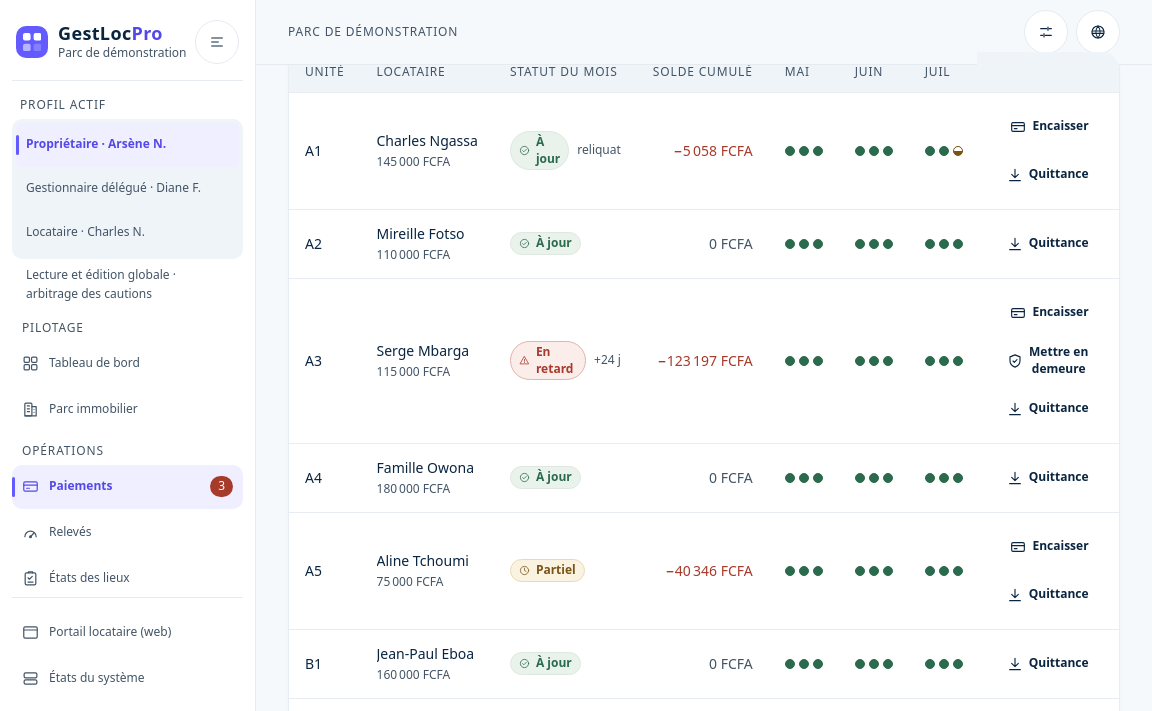
la mise en demeure en démonstration › ne prétend pas avoir enregistré quoi que ce soit
(page scrolled)
Expected: the row that starts with "Serge Mbarga" is shown, [289,278,1120,443]
Click the button "Mettre en demeure".
click(1048, 361)  # box [993,339,1103,383]
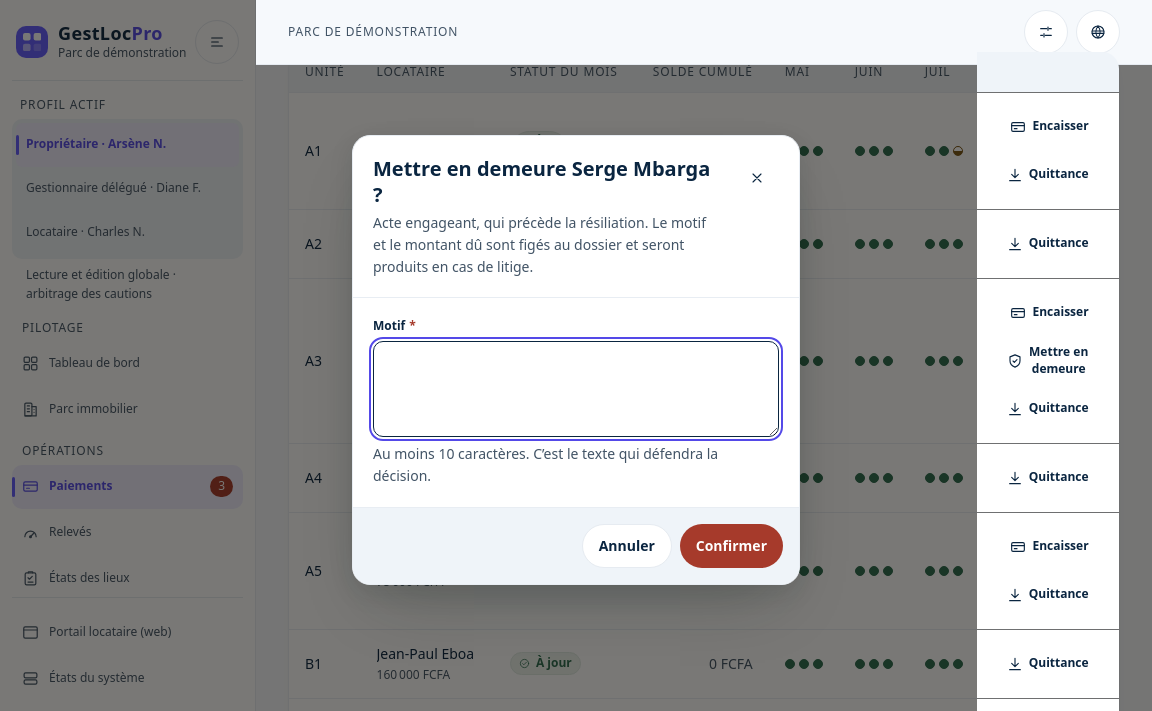
Type "Trois mois de loyer impayés malgré deux relances." into the text box.
click(576, 389); type("Trois mois de loyer impayés malgré deux relances.")  # box [373,341,779,437]
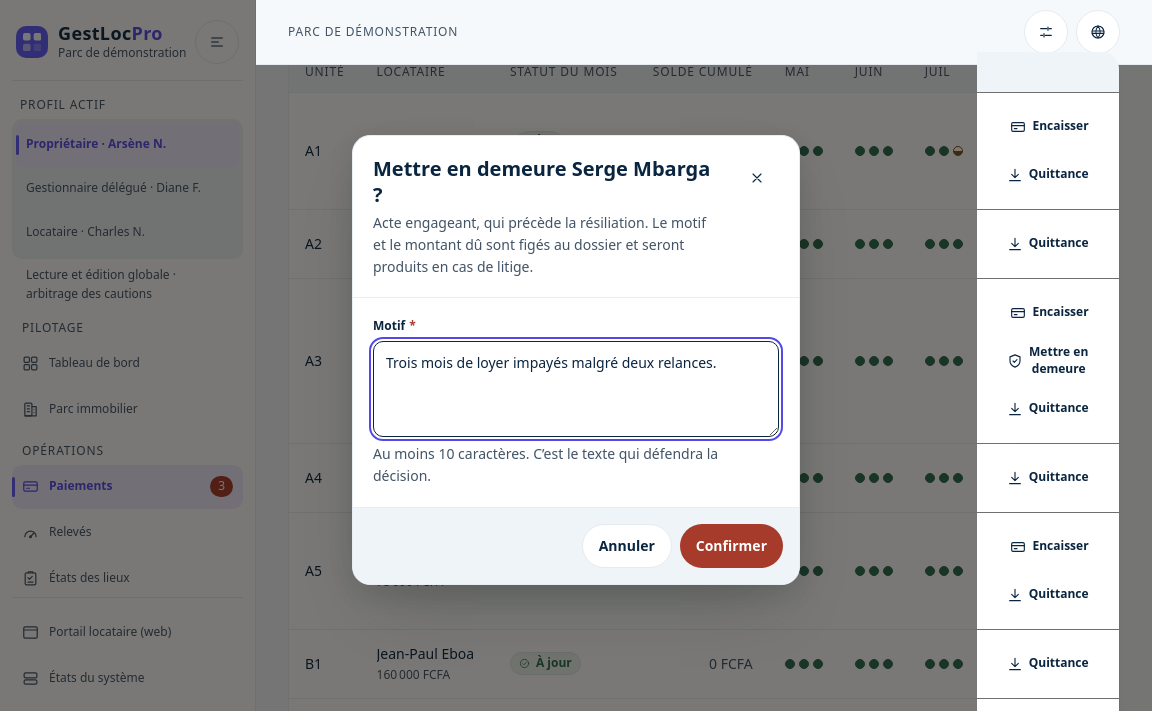
Click the button "Confirmer".
click(731, 546)  # box [680,524,783,568]
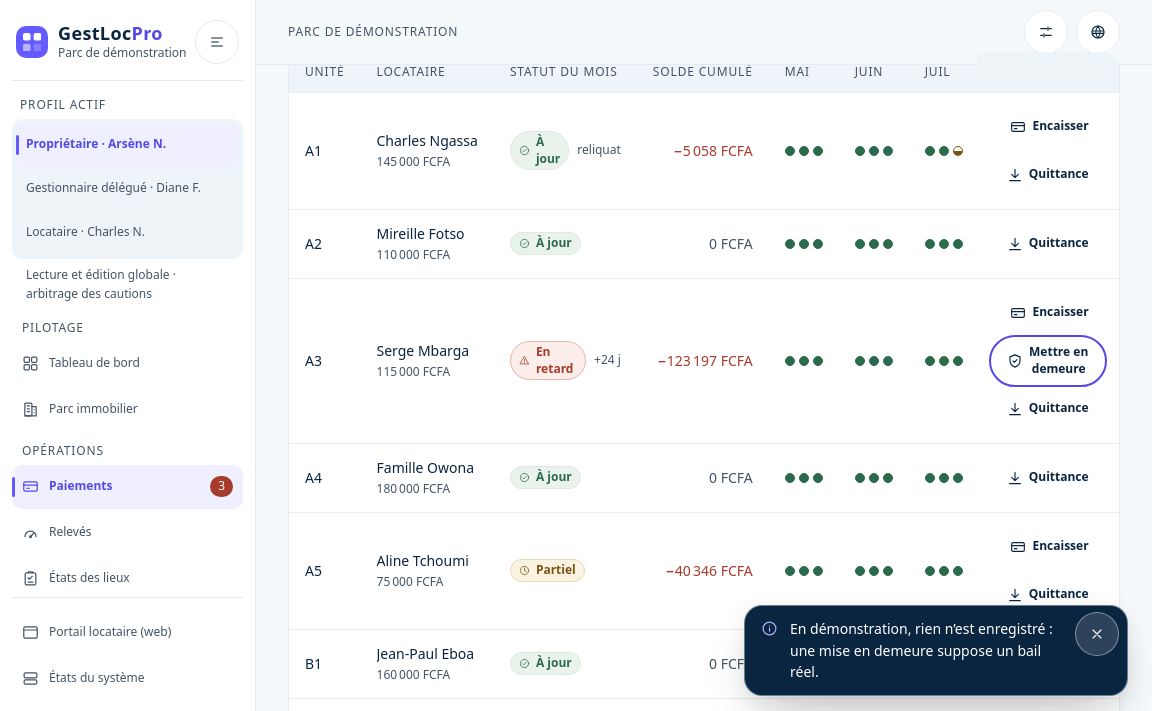
Expected: the text "rien n’est enregistré" is shown, [790,619,1053,681]
